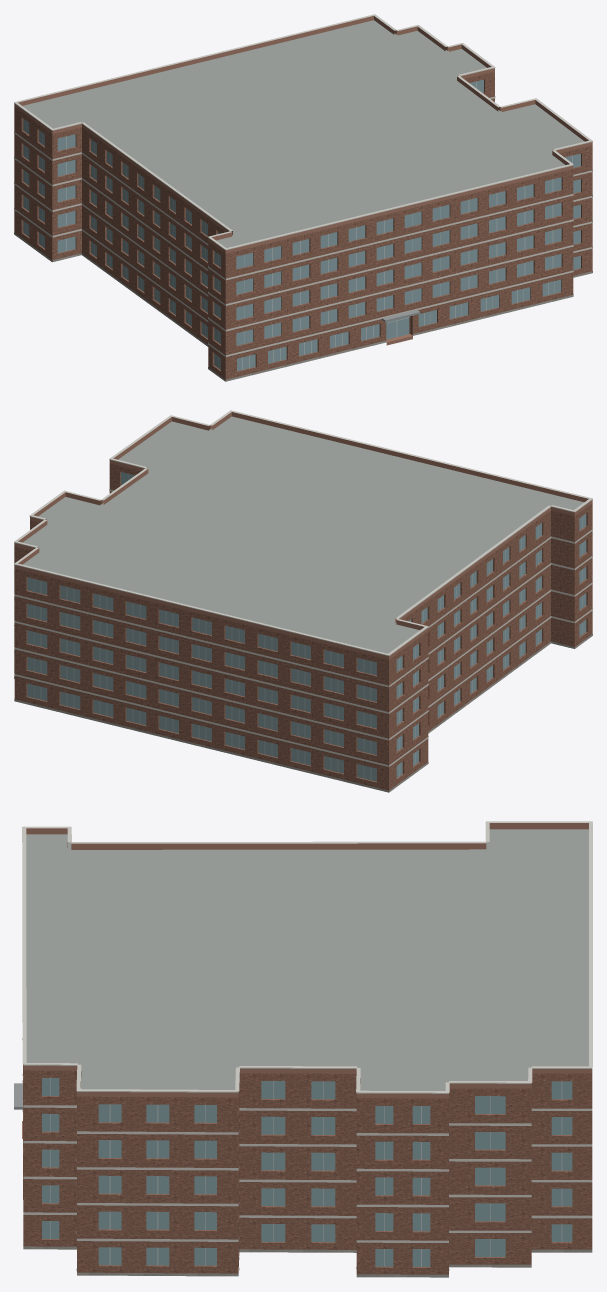
3 views of the same model, one above another, from view 1: azimuth 30°, elevation 25°; view 2: azimuth 150°, elevation 25°; view 3: azimuth 270°, elevation 25° (orthographic). The views are drawn at different scales.
Visible parts, largest first — view 1: w10__roof, w10__wall, w10__glass, w10__trim, w10__parapet, w10__frame, w10__base; view 2: w10__roof, w10__wall, w10__glass, w10__trim, w10__parapet, w10__frame, w10__base; view 3: w10__roof, w10__wall, w10__glass, w10__trim, w10__parapet, w10__base, w10__frame.
Part boxes in pixels (x1=…): w10__roof: x1=22, y1=20, x2=584, y2=247; w10__wall: x1=14, y1=71, x2=592, y2=381; w10__glass: x1=23, y1=79, x2=580, y2=371; w10__trim: x1=14, y1=14, x2=592, y2=356; w10__parapet: x1=14, y1=16, x2=592, y2=253; w10__frame: x1=26, y1=81, x2=572, y2=369; w10__base: x1=14, y1=232, x2=592, y2=381; w10__roof: x1=23, y1=416, x2=583, y2=653; w10__wall: x1=14, y1=463, x2=592, y2=792; w10__glass: x1=27, y1=472, x2=586, y2=781; w10__trim: x1=14, y1=410, x2=592, y2=766; w10__parapet: x1=14, y1=412, x2=592, y2=659; w10__frame: x1=34, y1=474, x2=582, y2=780; w10__base: x1=14, y1=634, x2=592, y2=792; w10__roof: x1=26, y1=829, x2=588, y2=1277; w10__wall: x1=23, y1=1064, x2=592, y2=1274; w10__glass: x1=42, y1=1078, x2=572, y2=1266; w10__trim: x1=22, y1=821, x2=592, y2=1242; w10__parapet: x1=23, y1=823, x2=592, y2=1098; w10__base: x1=22, y1=1080, x2=592, y2=1277; w10__frame: x1=50, y1=1078, x2=562, y2=1266.
Bounding box in the file's own units: 57.03 × 18.5 × 51.4.
Materials: 10 (2 with a texture image).
